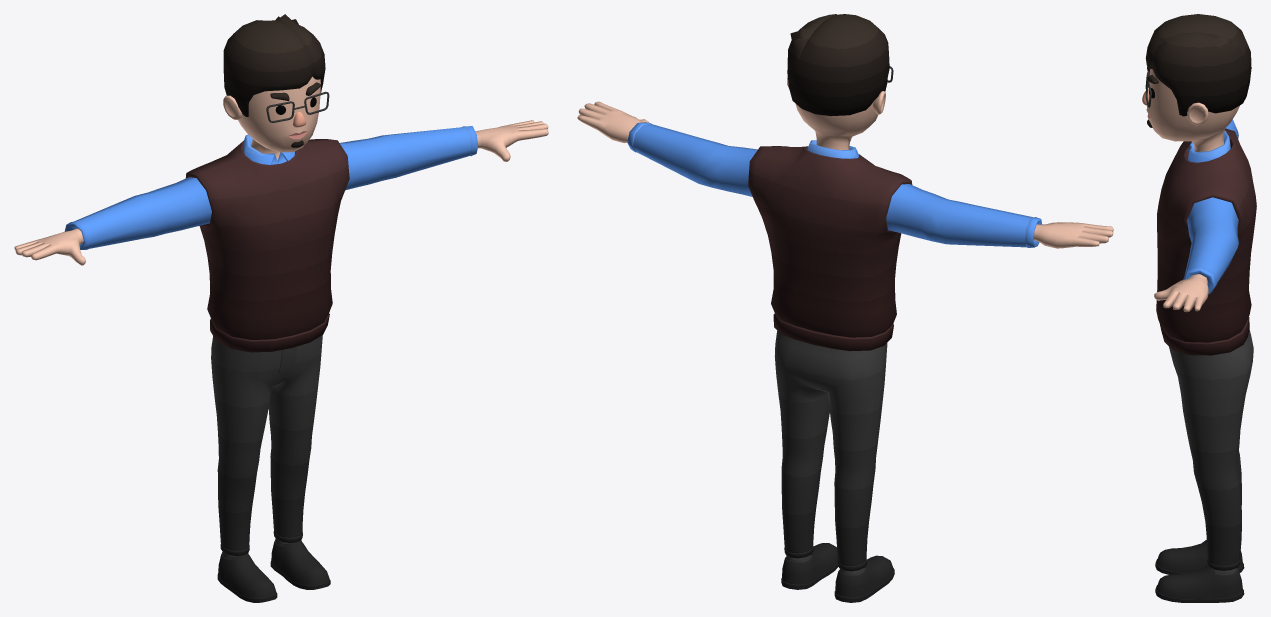
File: pose1.glb
The picture shows the model from 3 angles, left to right: view 1: azimuth 30°, elevation 25°; view 2: azimuth 150°, elevation 25°; view 3: azimuth 270°, elevation 25°; orthographic projection.
Parts seen in each view (by area): view 1: Teacher Man; view 2: Teacher Man; view 3: Teacher Man.
Boxes of the visible parts, <box> form: Teacher Man: <box>14,14,548,602</box>; Teacher Man: <box>577,14,1113,602</box>; Teacher Man: <box>1142,14,1256,602</box>.
Bounding box in the file's own units: 1.6 × 1.61 × 0.2982.
1 material, 1 textured.
